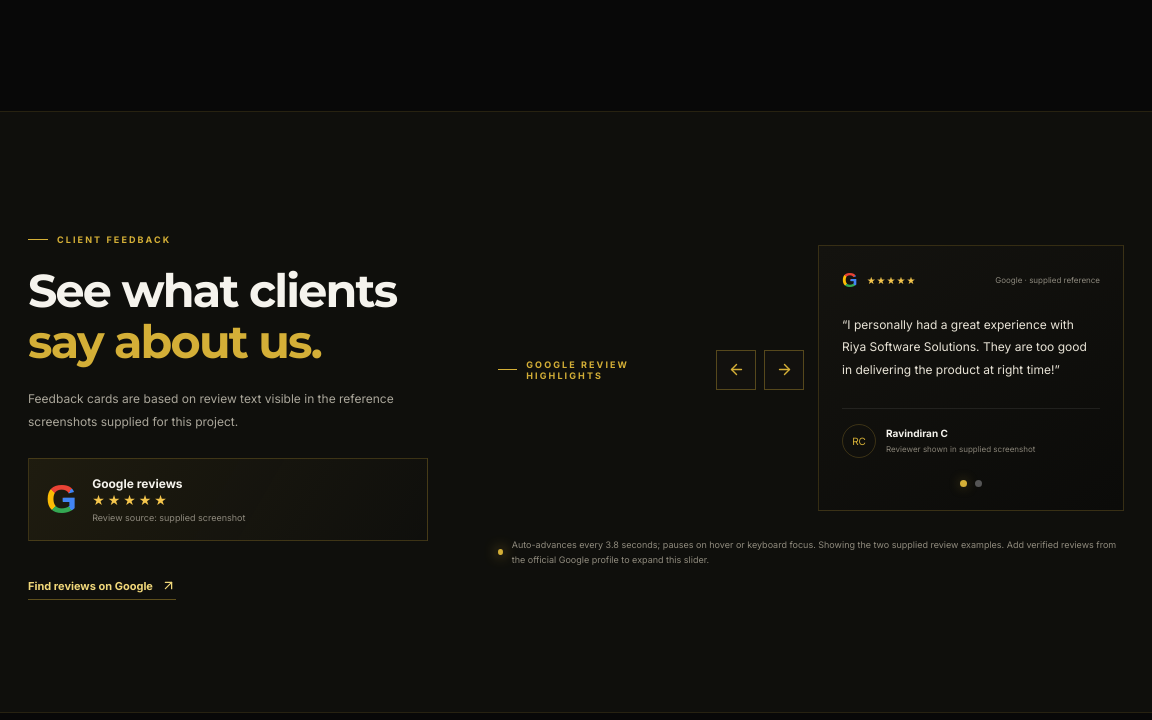
Test: Home review carousel › pauses automatic advancement while the review card is hovered
This screenshot has width=1152, height=720.
(page scrolled)
Check: the text "I personally had a great experience" is shown, box x1=842 y1=317 x2=1087 y2=377
Hover over the text "I personally had a great experience".
mouse_move(811, 412)  # box x1=498 y1=245 x2=1124 y2=580
Check: the text "I personally had a great experience" is shown, box x1=842 y1=317 x2=1087 y2=377
Move the pointer off the text "I personally had a great experience", box x1=498 y1=245 x2=1124 y2=580
Wait 3800 ms
(page scrolled)
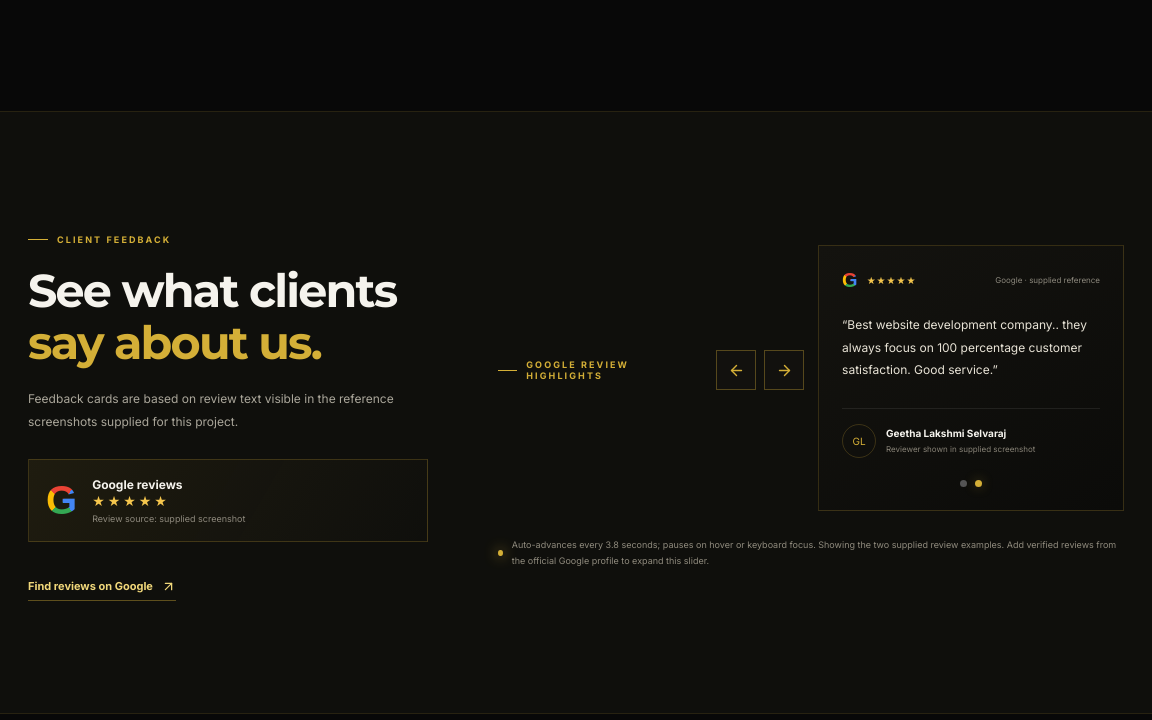
Check: the text "Best website development company" is shown, box x1=842 y1=317 x2=1087 y2=377
